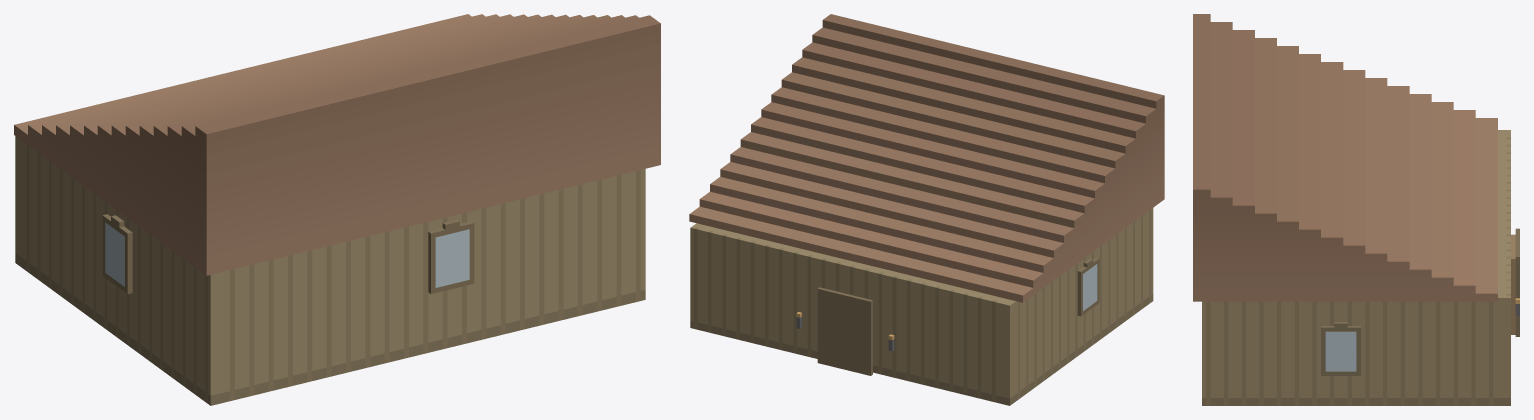
The model's file is astillero_01.glb.
3 renders of one model, left to right at view 1: azimuth 30°, elevation 25°; view 2: azimuth 150°, elevation 25°; view 3: azimuth 270°, elevation 25°, orthographic. The views are drawn at different scales.
Visible parts, largest first — view 1: astillero_01; view 2: astillero_01; view 3: astillero_01.
Boxes of the visible parts, bbox=[...] form: astillero_01: bbox=[14, 14, 660, 405]; astillero_01: bbox=[689, 14, 1164, 405]; astillero_01: bbox=[1193, 14, 1519, 405].
Bounding box in the file's own units: 9.4 × 5.5 × 7.4.
